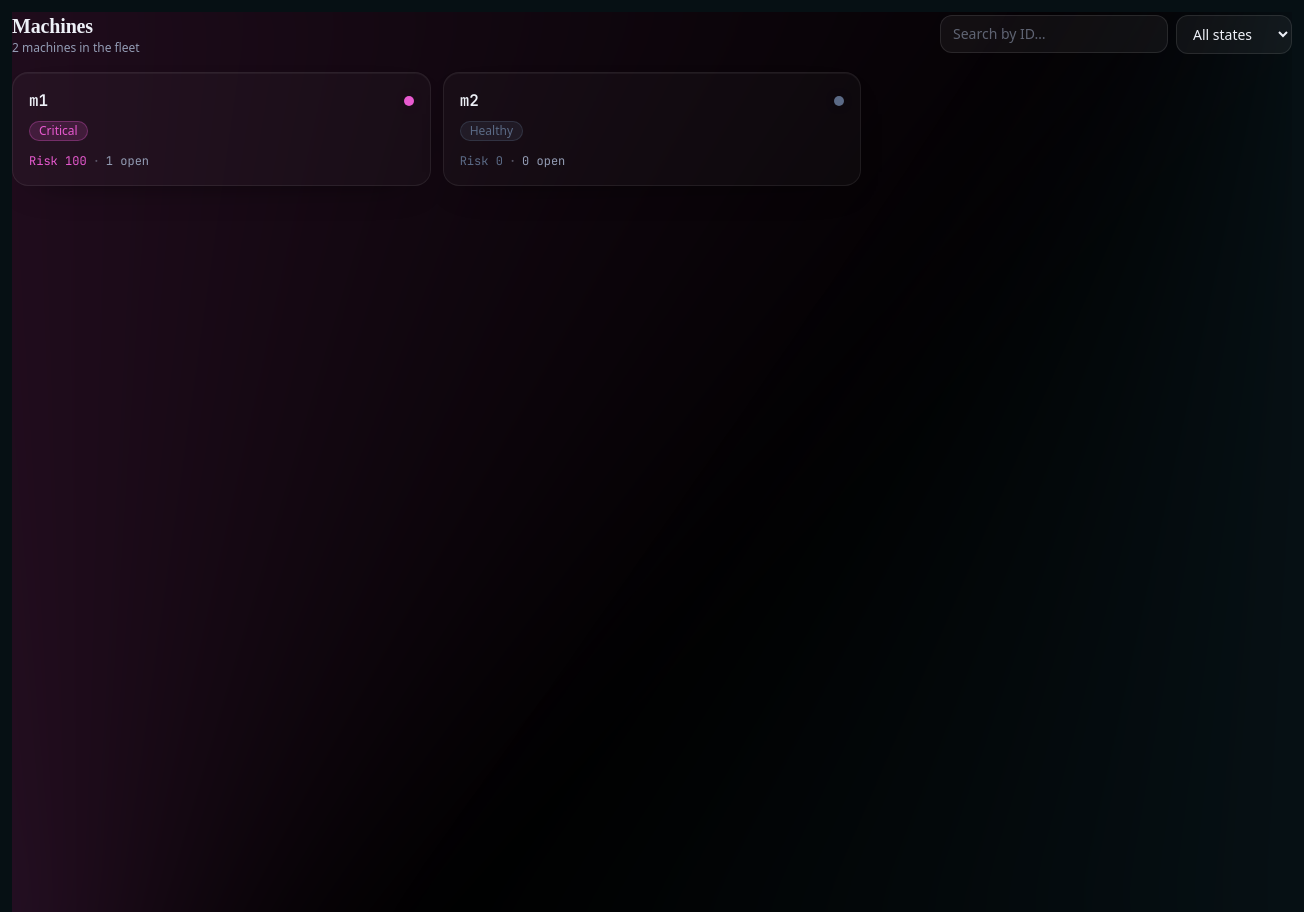
Test: MachinesPage › filters machines by search text
Expected: the button "m1 Critical Risk 100 · 1 open" is shown, [12,72,431,186]
In the search field named "search machines": [1054, 34] box [940,15,1168,53], type "m2"
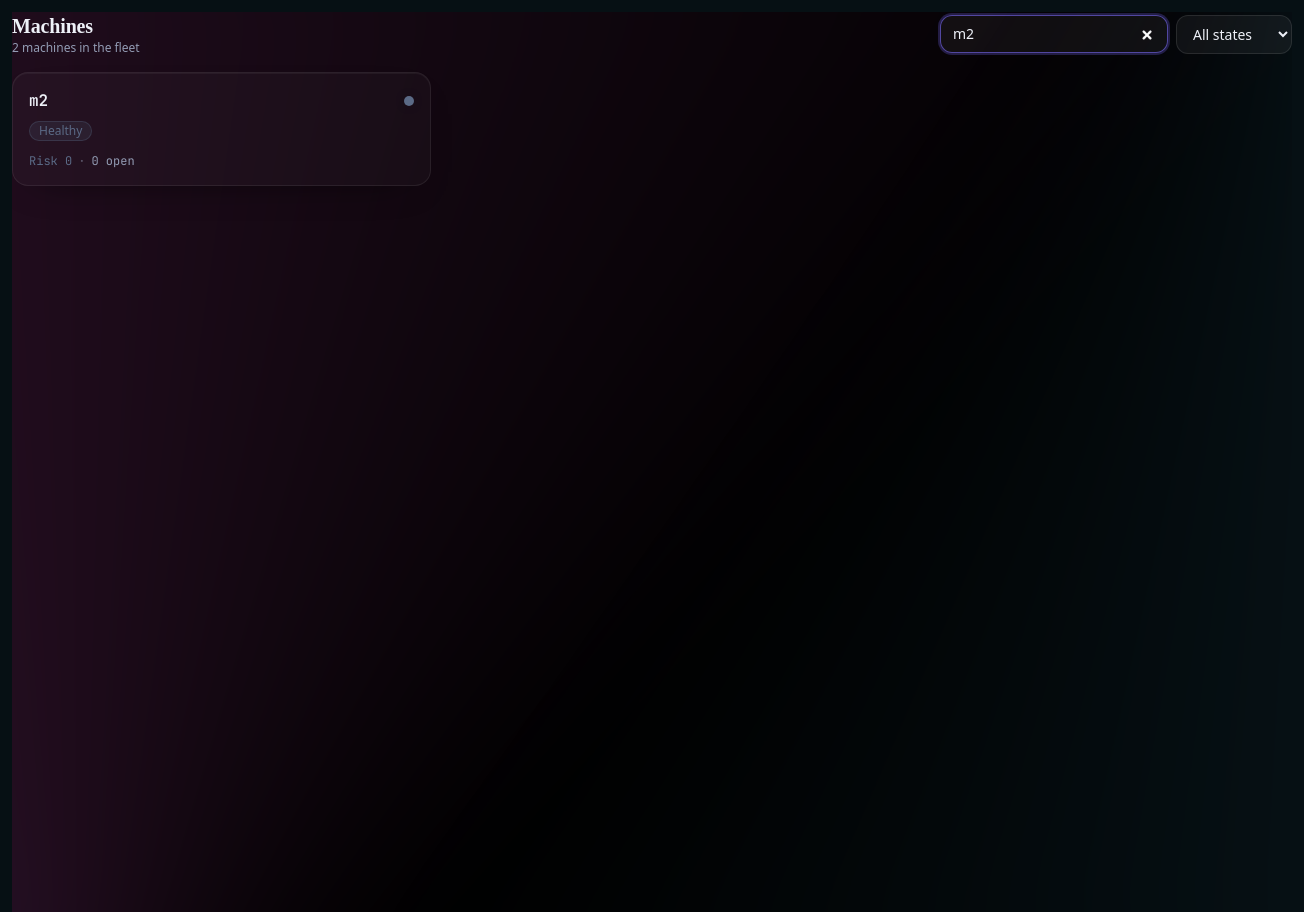
Expected: the button "m2 Healthy Risk 0 · 0 open" is shown, [12,72,431,186]
Now the button "m1" is gone
